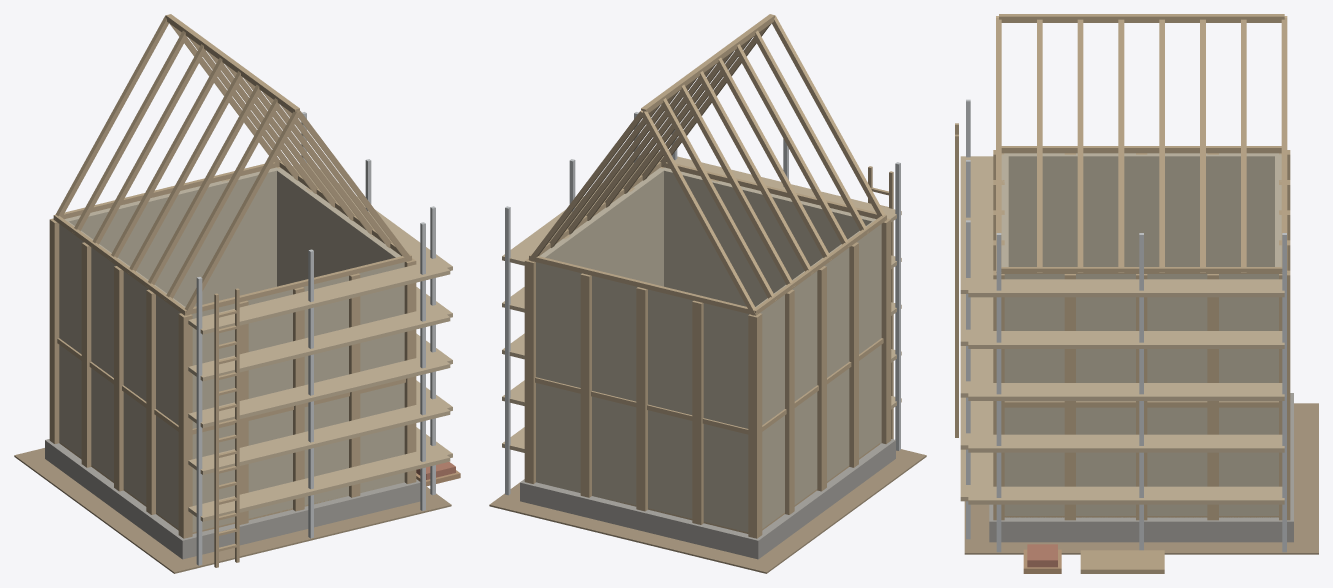
Rendered from feed_mill_site_9.glb.
3 views of the same model, side by side, from view 1: azimuth 30°, elevation 25°; view 2: azimuth 150°, elevation 25°; view 3: azimuth 270°, elevation 25° (orthographic). The views are drawn at different scales.
Parts seen in each view (by area): view 1: body; view 2: body; view 3: body.
Boxes of the visible parts, x1,y1,x2,y2 form: body: (14, 14, 460, 573); body: (489, 14, 926, 573); body: (955, 14, 1318, 573).
Size of the model in its own units: 2.1 by 2.69 by 1.91.
